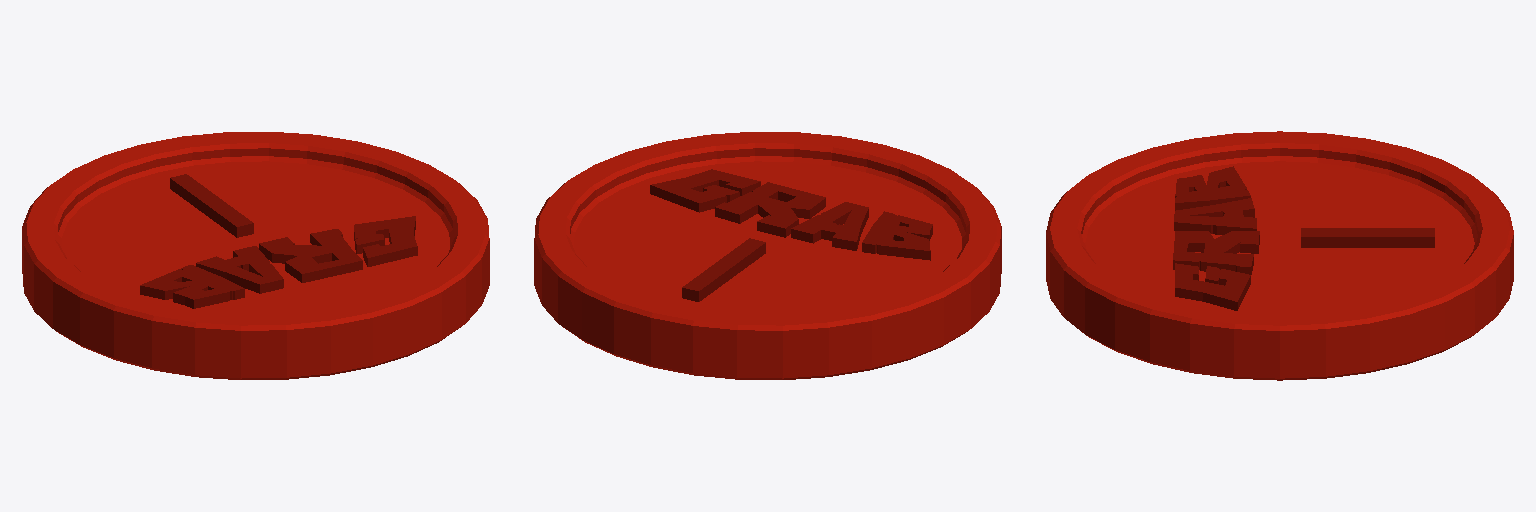
The model's file is currency_1.obj.
3 renders of one model, left to right at view 1: azimuth 30°, elevation 25°; view 2: azimuth 150°, elevation 25°; view 3: azimuth 270°, elevation 25°, orthographic.
Visible parts, largest first — view 1: 0, 1; view 2: 0, 1; view 3: 0, 1.
Part boxes in pixels (left/top/right/bottom): 0: left=22, top=132, right=489, bottom=379; 1: left=140, top=174, right=417, bottom=308; 0: left=534, top=132, right=1001, bottom=379; 1: left=650, top=169, right=932, bottom=301; 0: left=1046, top=131, right=1513, bottom=380; 1: left=1173, top=166, right=1434, bottom=310.
Size of the model in its own units: 0.1177 by 0.0152 by 0.1177.